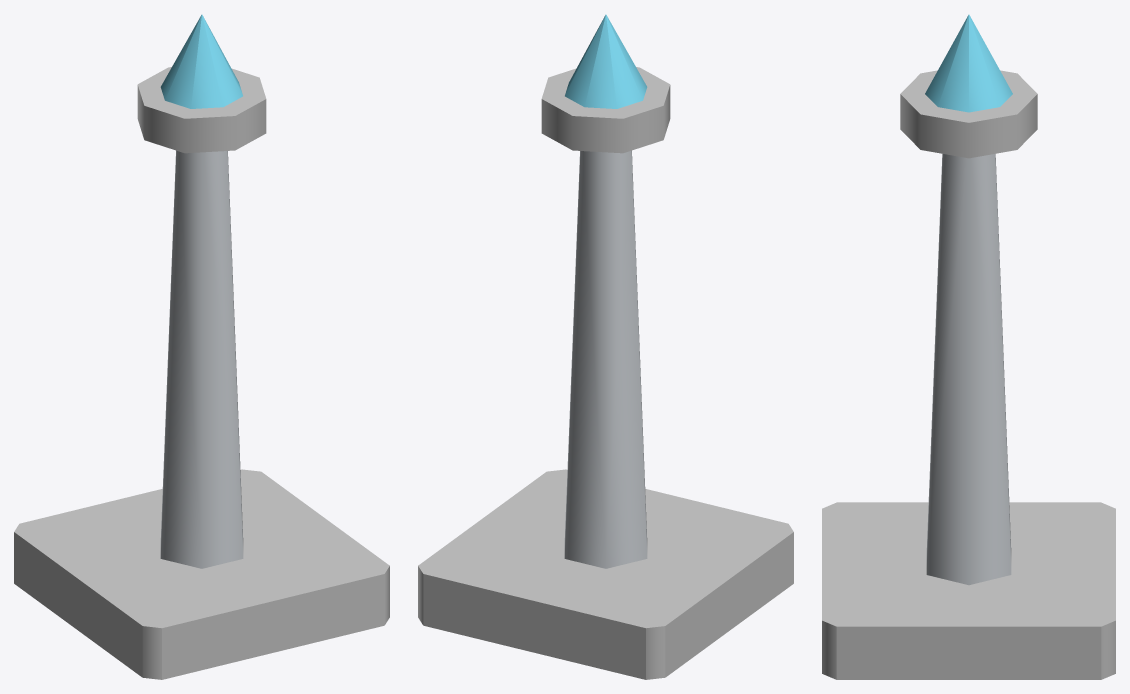
The model's file is trade_beacon.obj.
The picture shows the model from 3 angles, left to right: view 1: azimuth 30°, elevation 25°; view 2: azimuth 150°, elevation 25°; view 3: azimuth 270°, elevation 25°; orthographic projection. The views are drawn at different scales.
Parts seen in each view (by area): view 1: beacon_base, beacon_mast, beacon_cap, beacon_glow; view 2: beacon_base, beacon_mast, beacon_cap, beacon_glow; view 3: beacon_base, beacon_mast, beacon_cap, beacon_glow.
Part boxes in pixels (bbox=[...]): beacon_base: bbox=[14, 469, 389, 679]; beacon_mast: bbox=[160, 150, 243, 568]; beacon_cap: bbox=[137, 67, 266, 153]; beacon_glow: bbox=[160, 14, 242, 108]; beacon_base: bbox=[418, 469, 793, 679]; beacon_mast: bbox=[564, 150, 647, 568]; beacon_cap: bbox=[541, 67, 670, 153]; beacon_glow: bbox=[565, 14, 647, 108]; beacon_base: bbox=[822, 502, 1115, 679]; beacon_mast: bbox=[926, 154, 1011, 585]; beacon_cap: bbox=[900, 70, 1037, 158]; beacon_glow: bbox=[925, 14, 1012, 112].
Size of the model in its own units: 0.6 by 1.36 by 0.6.
